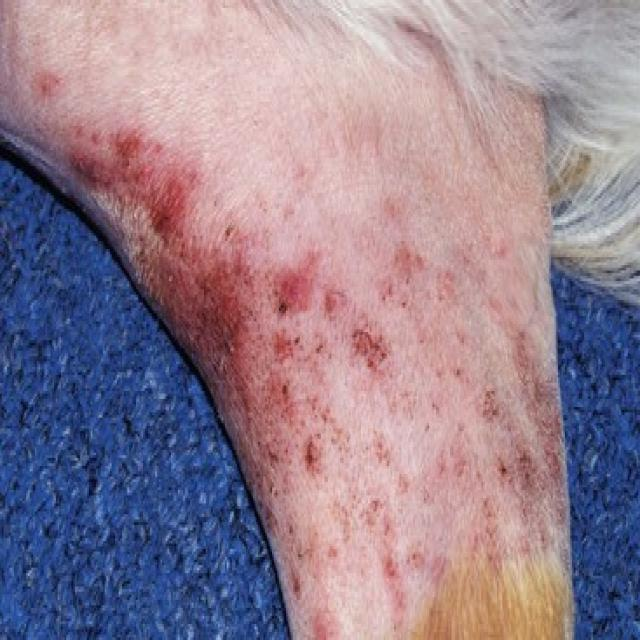fungal infection: (22, 40, 562, 616)
